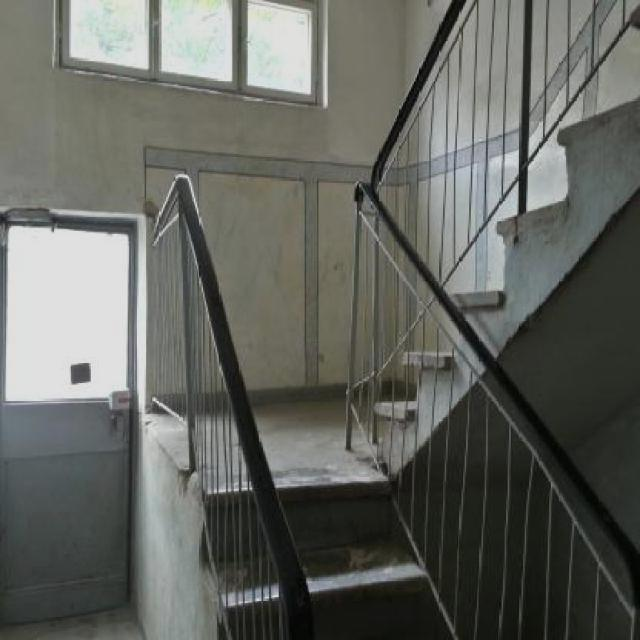stair: (344, 1, 638, 424), (137, 432, 465, 640)
